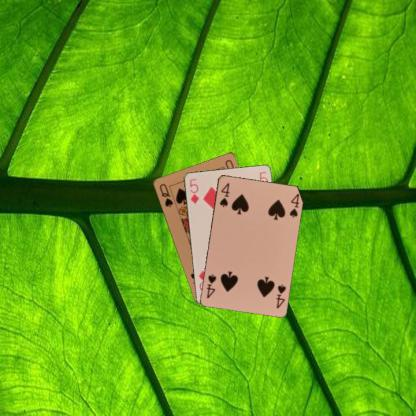4s: (216, 180, 231, 208), (273, 281, 287, 310)
5d: (187, 176, 200, 205)
Qs: (156, 181, 174, 208)
